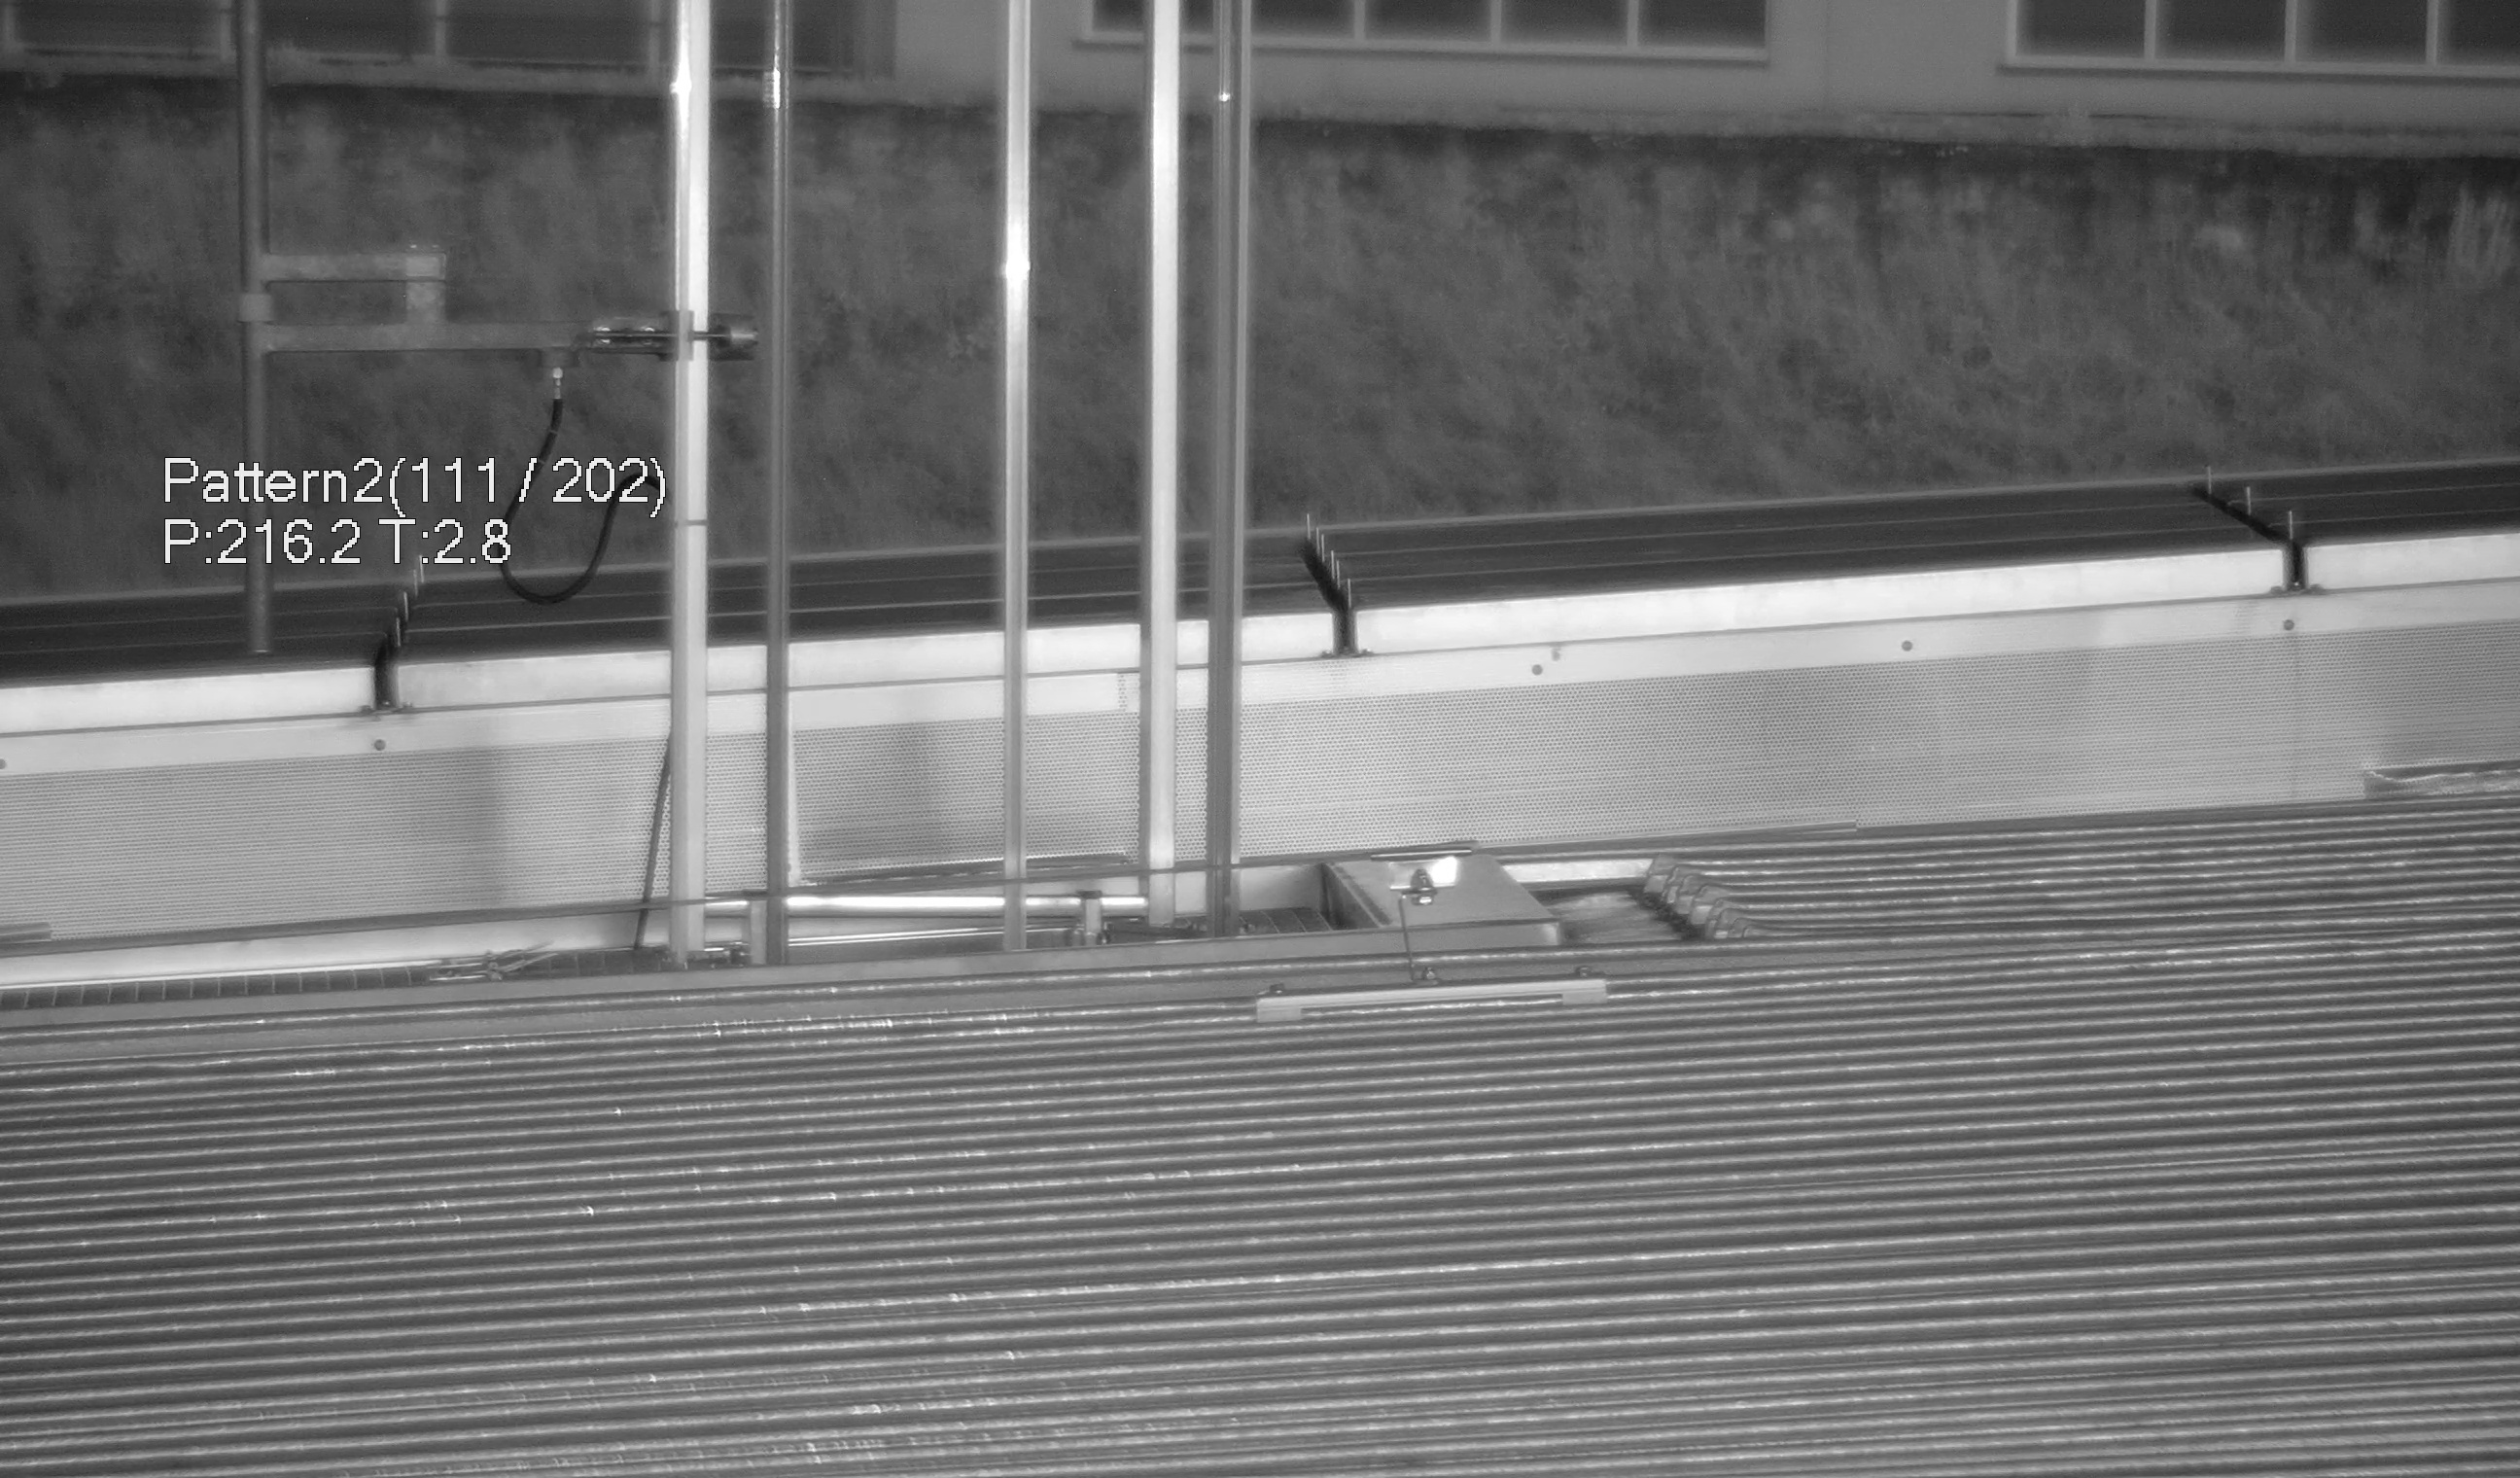Other: (1284, 500, 1375, 662)
